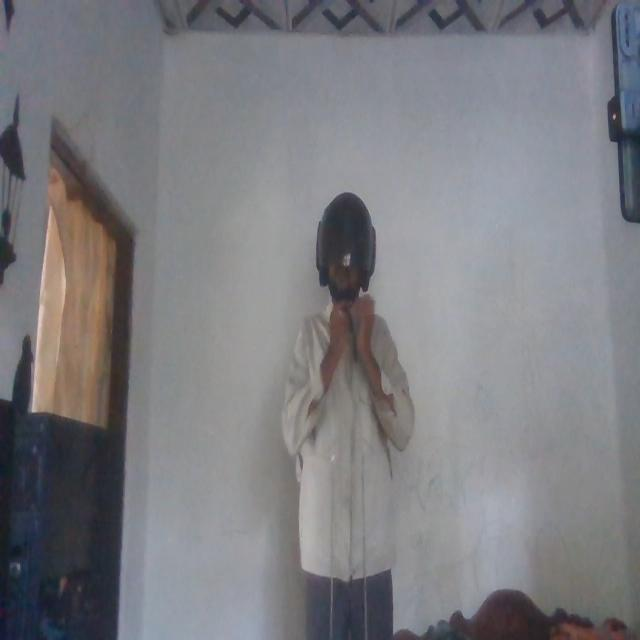Helmet_Wearer: (308, 186, 376, 305)
Jacket_Wearer: (286, 298, 412, 582)
Person: (284, 180, 414, 640)
